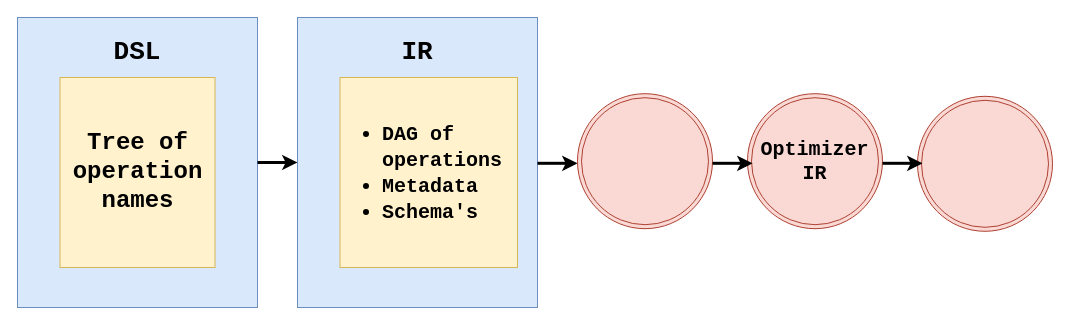
Image size: 1070x325. Some labels were removed from this diagram. Here are the shapes that lost their labels. From the top down, the box of each, then its label:
(576, 93, 712, 229): Optimizer (CPU)
(916, 95, 1052, 231): CuDF callback (CPU)
